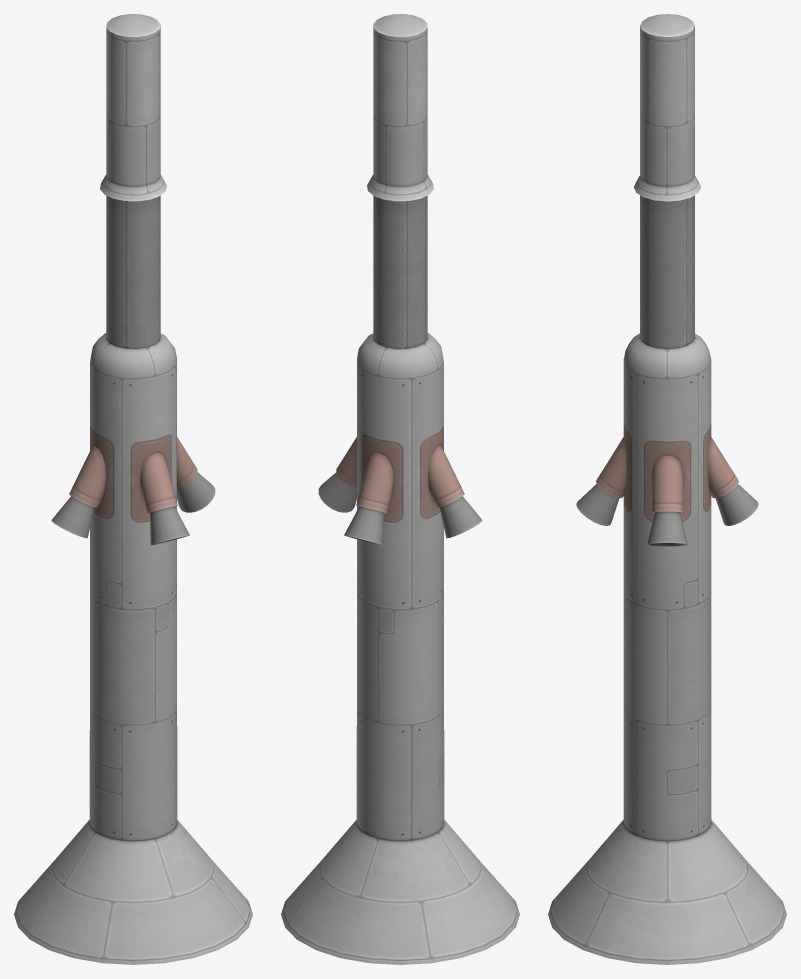
File: Tantares_LES_1.obj
3 renders of one model, left to right at view 1: azimuth 30°, elevation 25°; view 2: azimuth 150°, elevation 25°; view 3: azimuth 270°, elevation 25°, orthographic.
Visible parts, largest first — view 1: Tantares_LES_1; view 2: Tantares_LES_1; view 3: Tantares_LES_1.
Boxes of the visible parts, x1,y1,x2,y2 form: Tantares_LES_1: (14,14,252,964); Tantares_LES_1: (281,14,519,964); Tantares_LES_1: (548,14,786,964).
Bounding box in the file's own units: 0.9375 × 3.9 × 0.9375.
